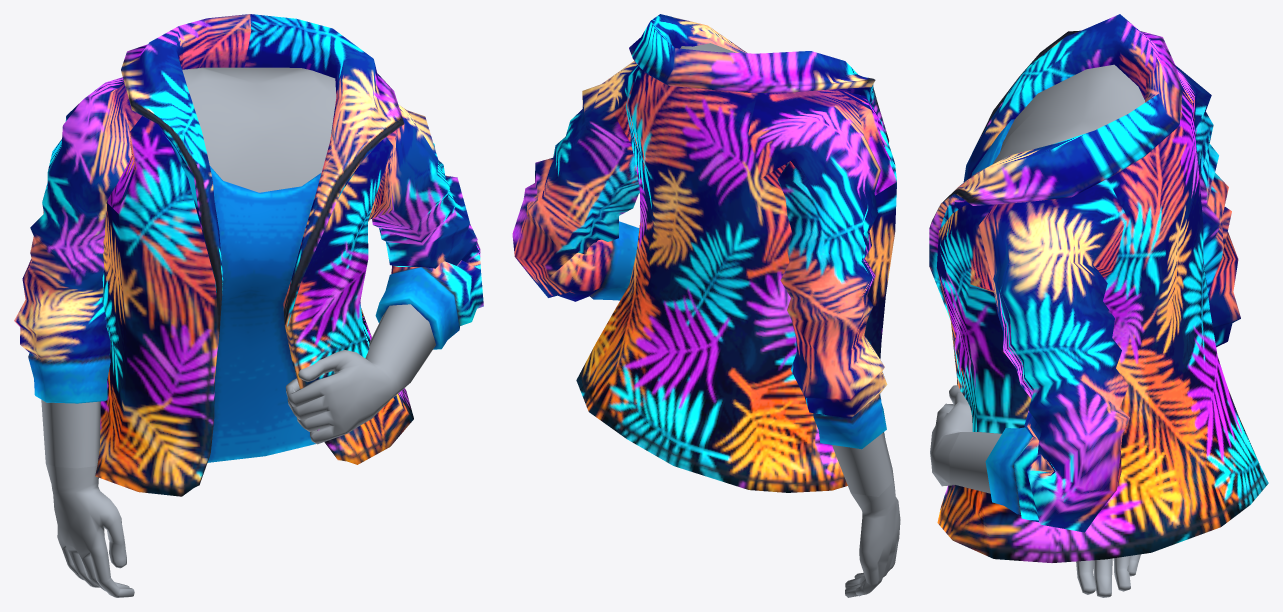
The model's file is jungle-techno-upper.gltf.
3 views of the same model, side by side, from view 1: azimuth 30°, elevation 25°; view 2: azimuth 150°, elevation 25°; view 3: azimuth 270°, elevation 25° (orthographic). The views are drawn at different scales.
Visible parts, largest first — view 1: jungle-techno-upper; view 2: jungle-techno-upper; view 3: jungle-techno-upper.
Part boxes in pixels (x1,y1,x2,y2): jungle-techno-upper: (14,14,483,597); jungle-techno-upper: (512,14,900,597); jungle-techno-upper: (929,14,1268,597).
Bounding box in the file's own units: 1.23 × 1.54 × 0.7893.
2 materials, 1 textured.
